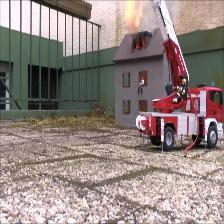fire: (125, 1, 145, 25)
